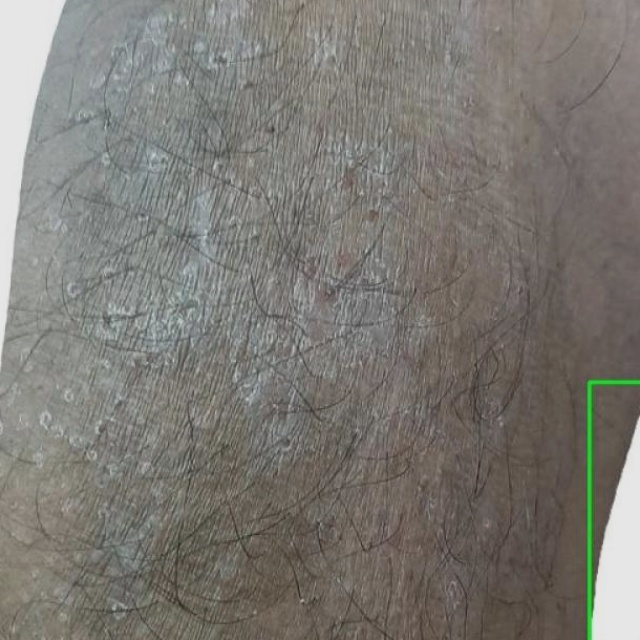Contact Dermatitis: (589, 382, 639, 639)
